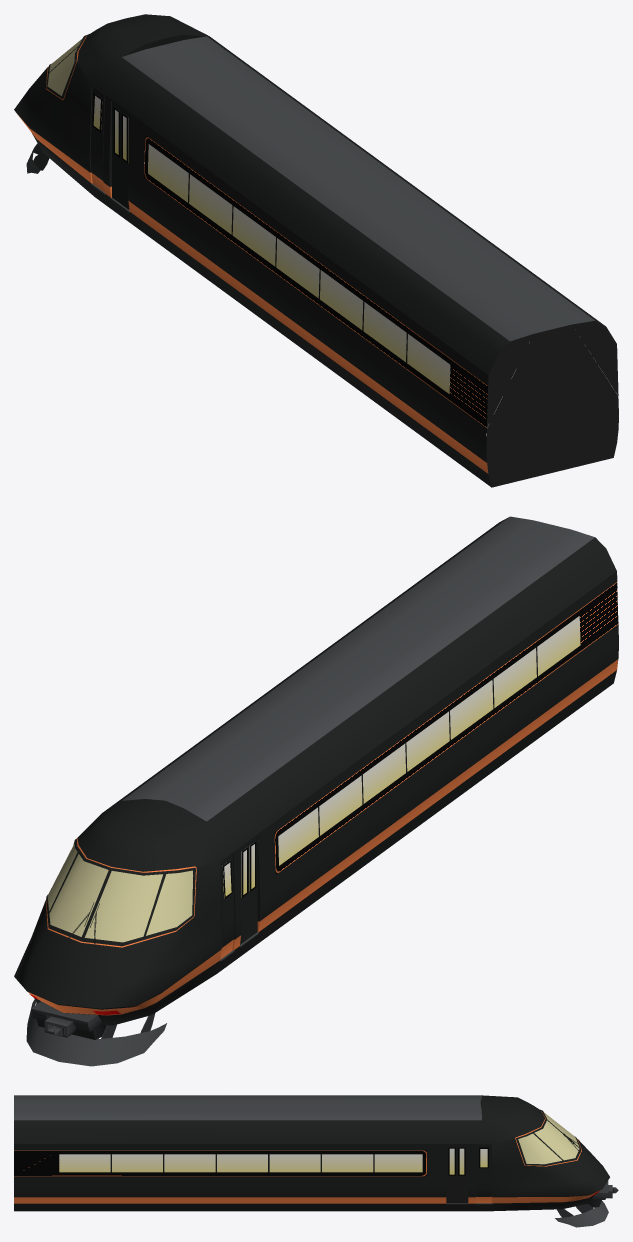
3 views of the same model, one above another, from view 1: azimuth 30°, elevation 25°; view 2: azimuth 150°, elevation 25°; view 3: azimuth 270°, elevation 25° (orthographic). The views are drawn at different scales.
Visible parts, largest first — view 1: obj2; view 2: obj2; view 3: obj2.
Boxes of the visible parts, box(x1,y1,x2,y2) form: obj2: box(14, 14, 618, 487); obj2: box(14, 516, 618, 1066); obj2: box(14, 1095, 618, 1227).
Size of the model in its own units: 6.49 by 8.57 by 42.61.
Materials: 14 (13 with a texture image).
